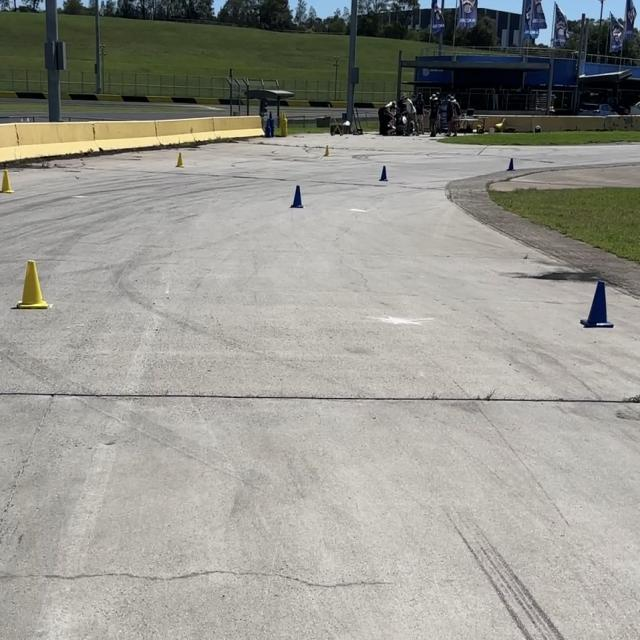blue_cone: (580, 277, 614, 333), (285, 181, 309, 213), (372, 160, 394, 187), (508, 157, 514, 170)
yellow_cone: (15, 258, 49, 312), (2, 166, 12, 196), (174, 151, 186, 170), (322, 142, 332, 160)
